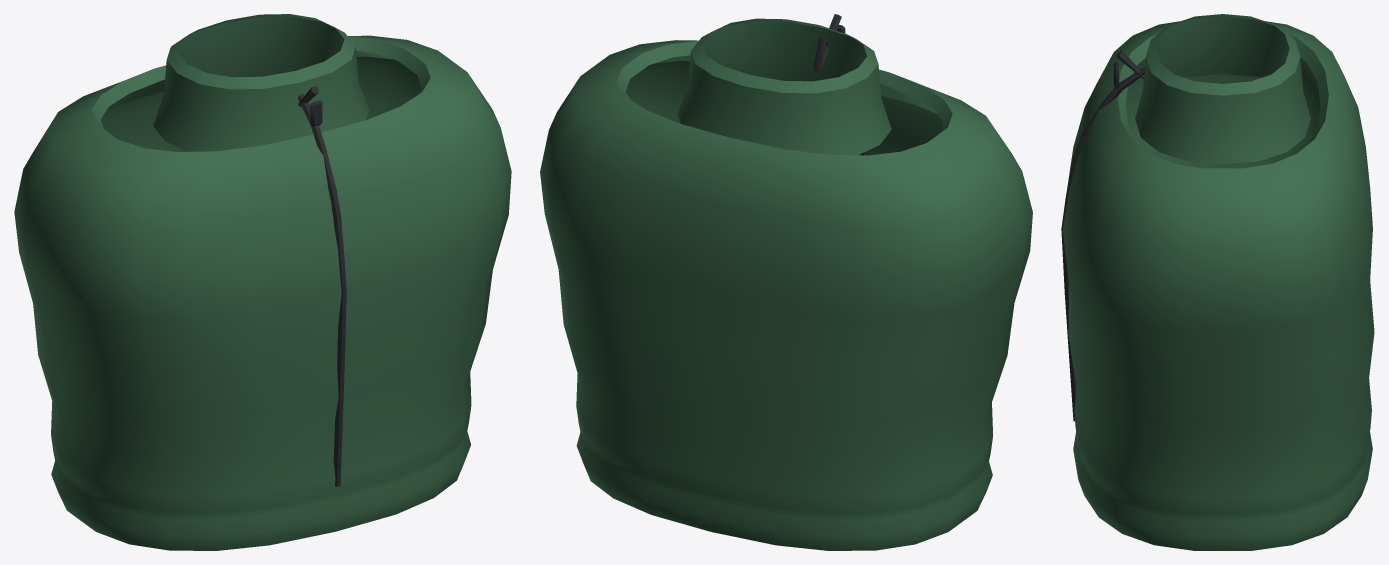
File: Char_Top_Vest.fbx
3 views of the same model, side by side, from view 1: azimuth 30°, elevation 25°; view 2: azimuth 150°, elevation 25°; view 3: azimuth 270°, elevation 25° (orthographic). The views are drawn at different scales.
Visible parts, largest first — view 1: Vest, Zip; view 2: Vest; view 3: Vest, Zip.
Boxes of the visible parts, x1=… form: Vest: x1=14, y1=14, x2=511, y2=550; Zip: x1=298, y1=86, x2=346, y2=486; Vest: x1=540, y1=18, x2=1032, y2=550; Vest: x1=1062, y1=14, x2=1374, y2=550; Zip: x1=1061, y1=50, x2=1144, y2=421.
Bounding box in the file's own units: 184 × 173 × 117.
